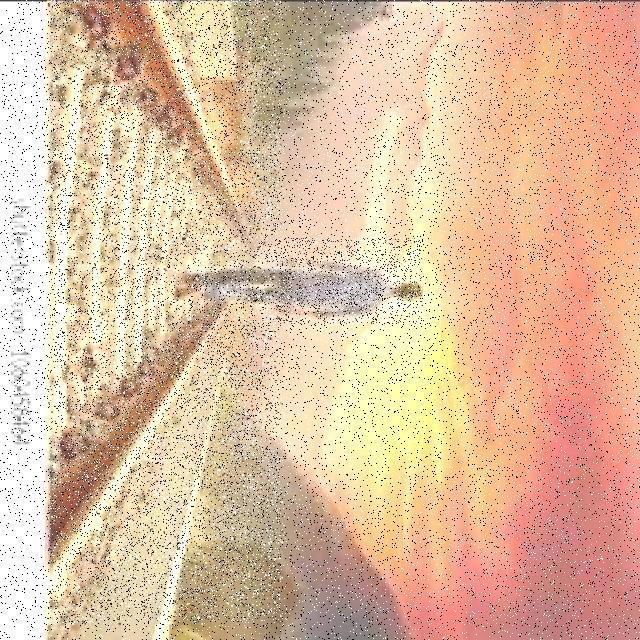danger: (152, 238, 422, 324)
rail: (47, 0, 281, 622)
